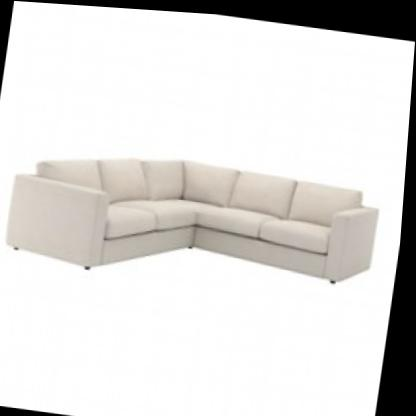Sofa: (0, 102, 400, 319)
